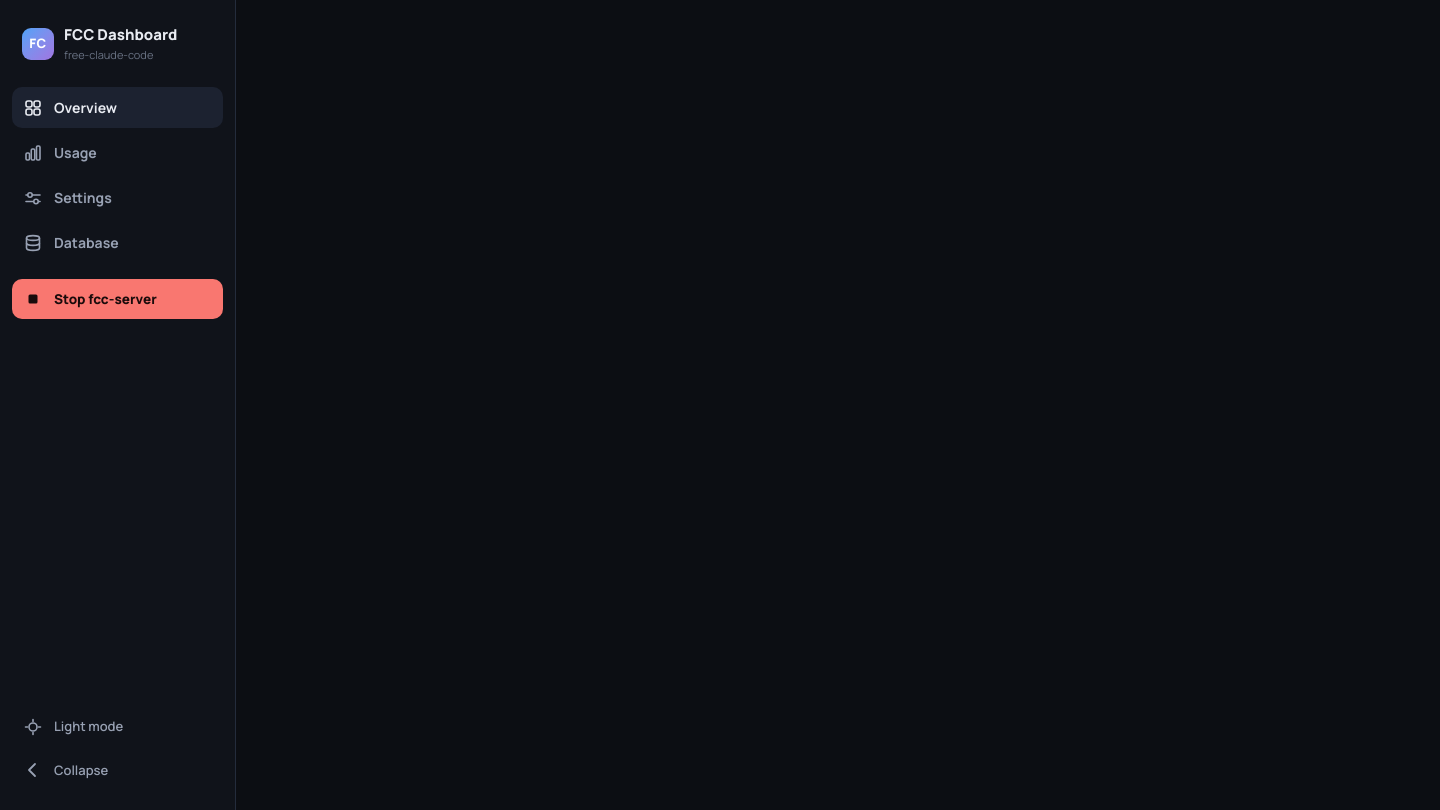
Test: Sidebar › shows "Stop fcc-server" while FCC is up, and requires confirmation before stopping it
This screenshot has width=1440, height=810.
Step 1. Click the button "Stop fcc-server" → (118, 299), box [12,279,223,319]
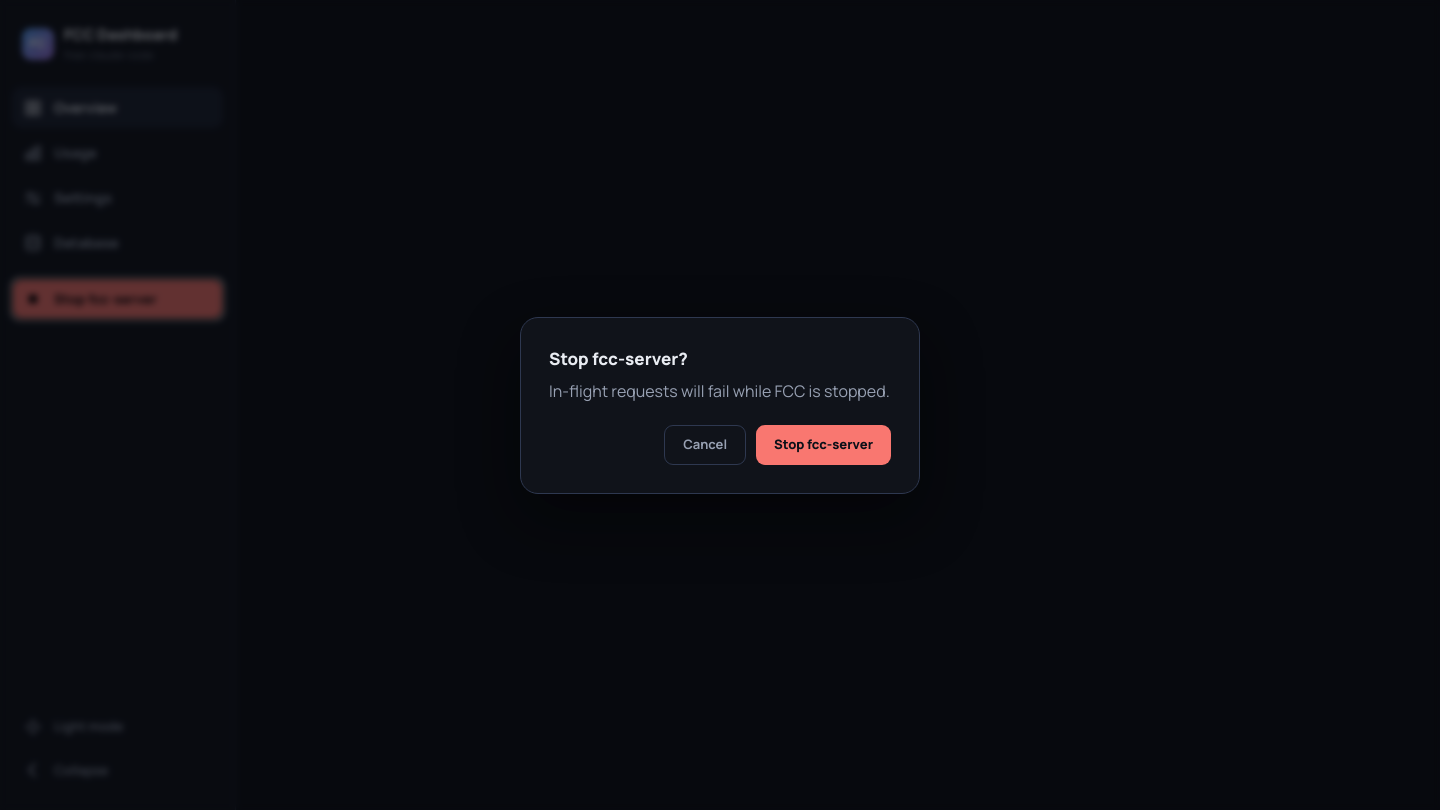
Step 2. Click the button "Stop fcc-server" below "Stop fcc-server?" → (824, 445), box [756,425,891,464]
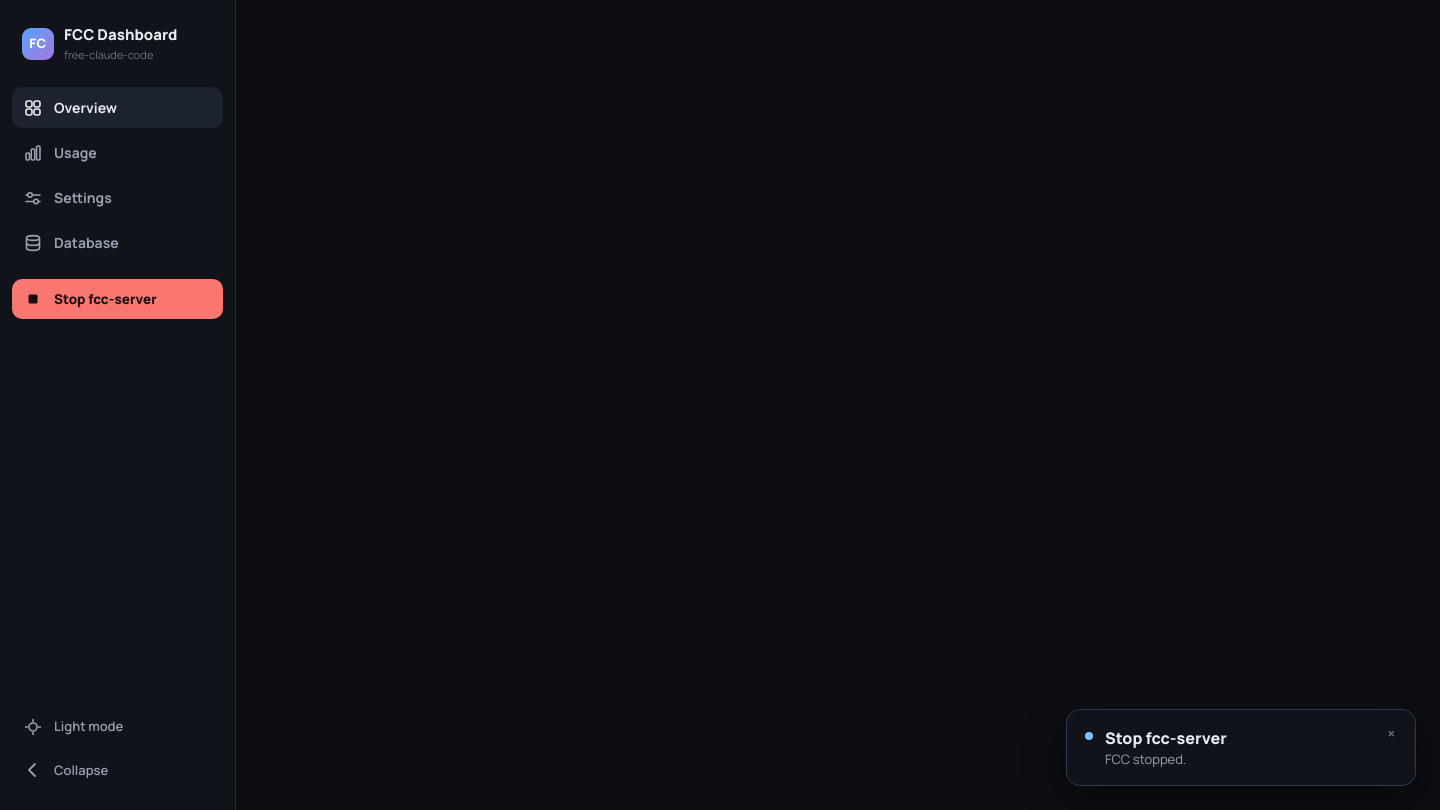
Expected: the text "FCC stopped." is shown, [1105,750,1186,768]
